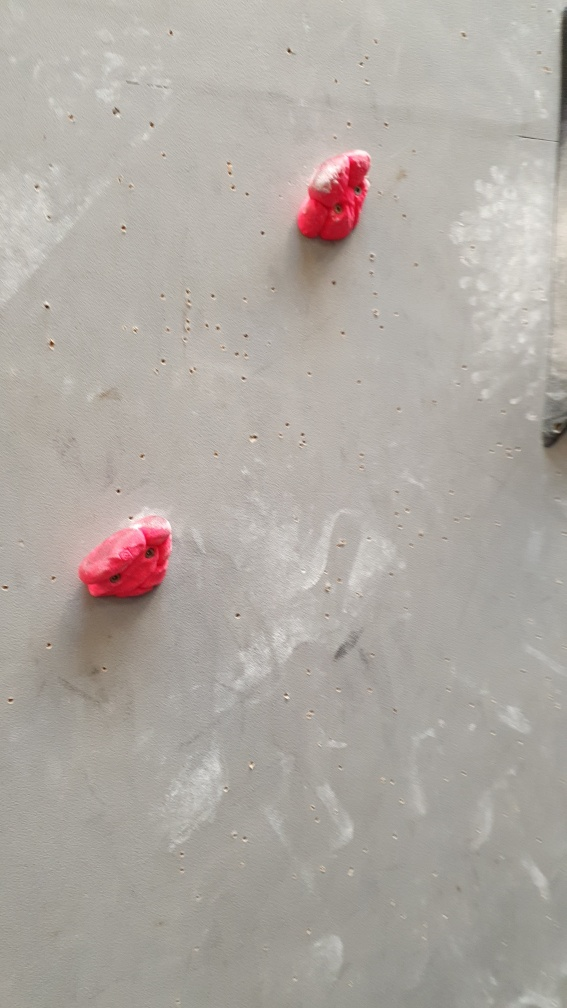Jug: (80, 513, 175, 601), (295, 146, 375, 245)
